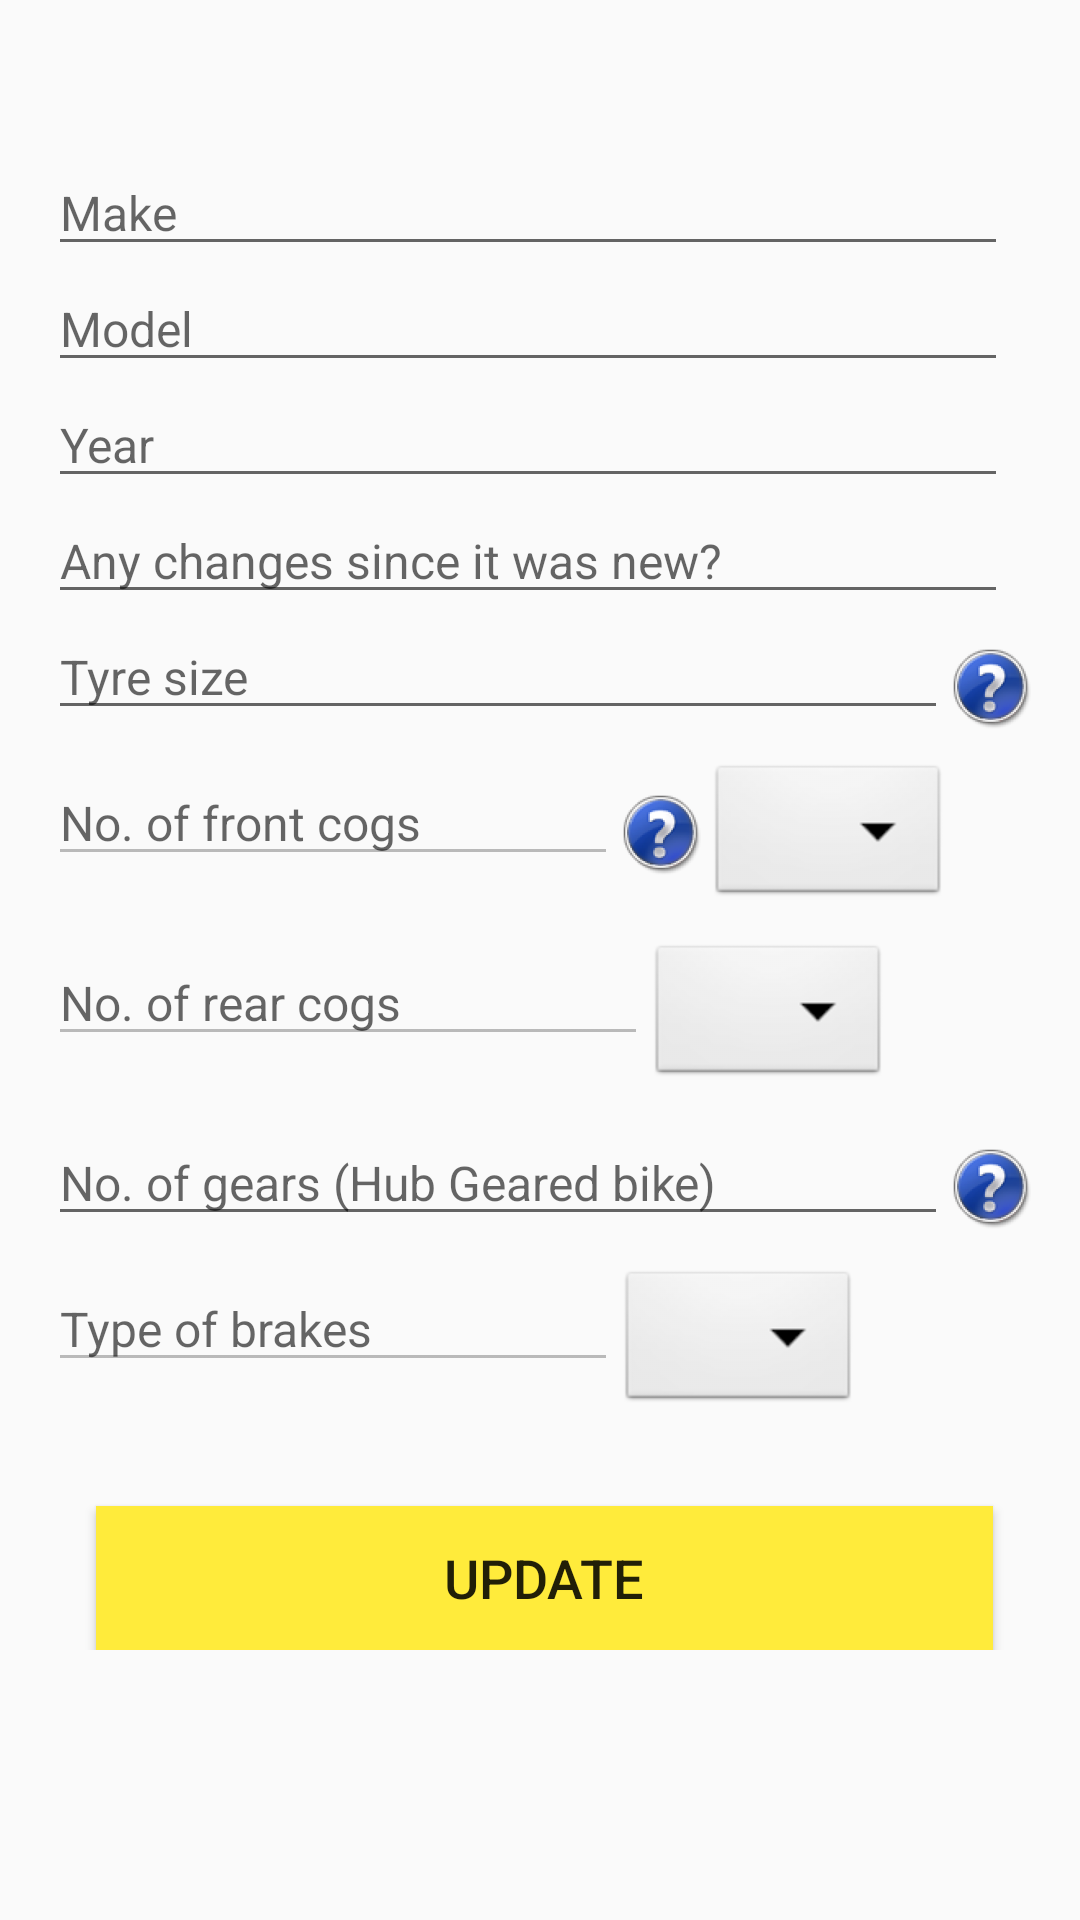

Point at icon controls on the screen. Image size 1080×1920, points as [x,y].
tooltip: [991,688], [661,834], [991,1188]
